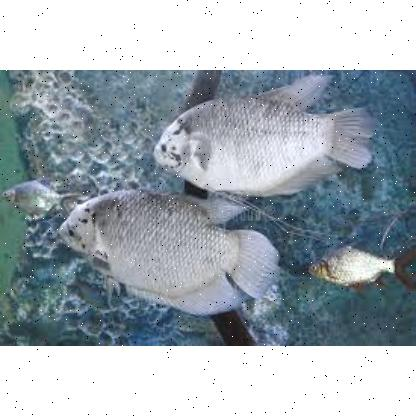gurame: (60, 188, 280, 318), (154, 86, 376, 198)
